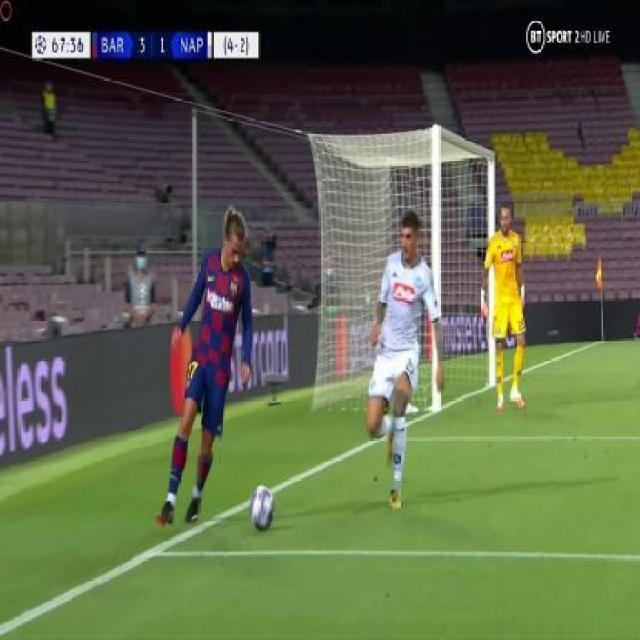ball: (246, 479, 280, 535)
player: (153, 199, 259, 532), (352, 202, 446, 513), (476, 201, 533, 415)
